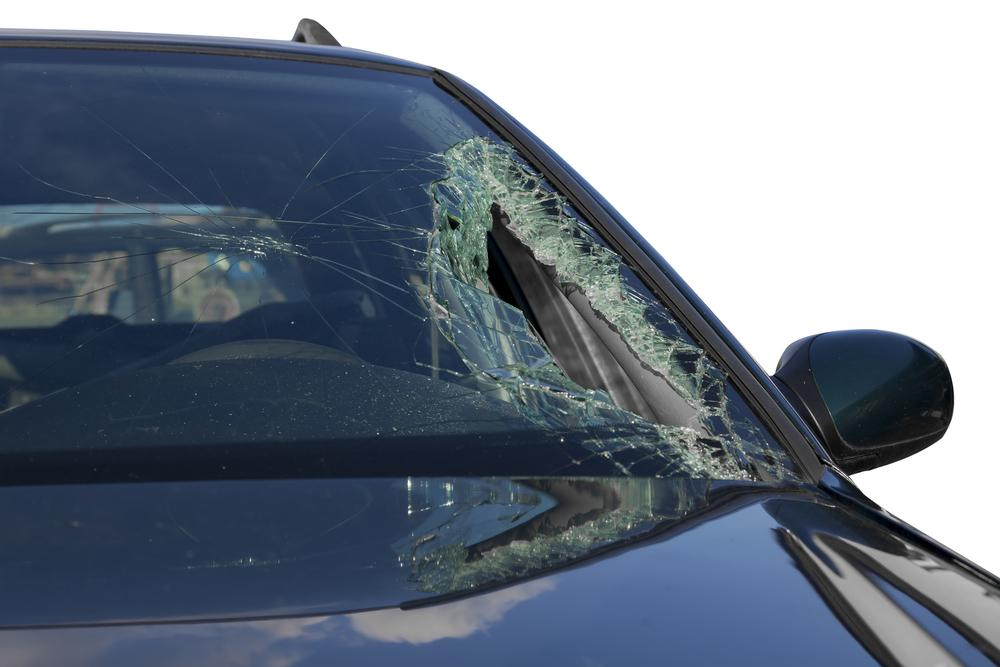glass shatter: (0, 46, 811, 486)
